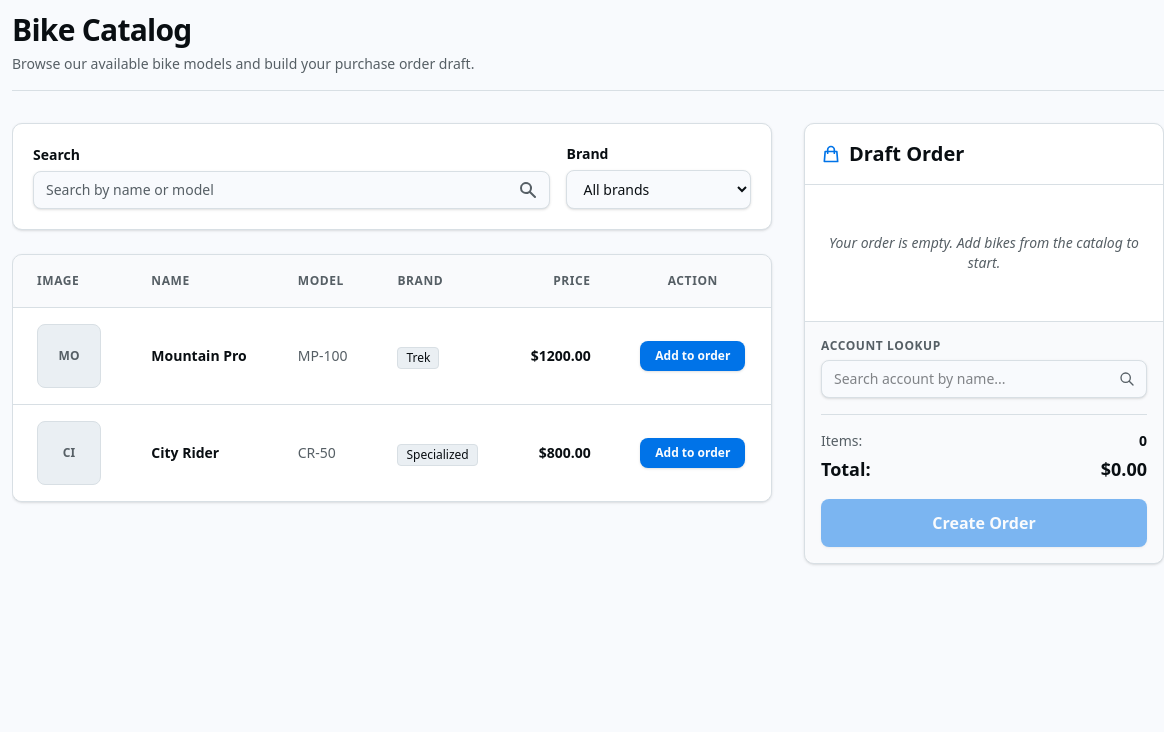
Scenario: CatalogPage › filters bikes by search text
This screenshot has width=1164, height=732.
Type "Mountain" into the field labelled "Search". click: (292, 190)
box: [33,170,550,208]
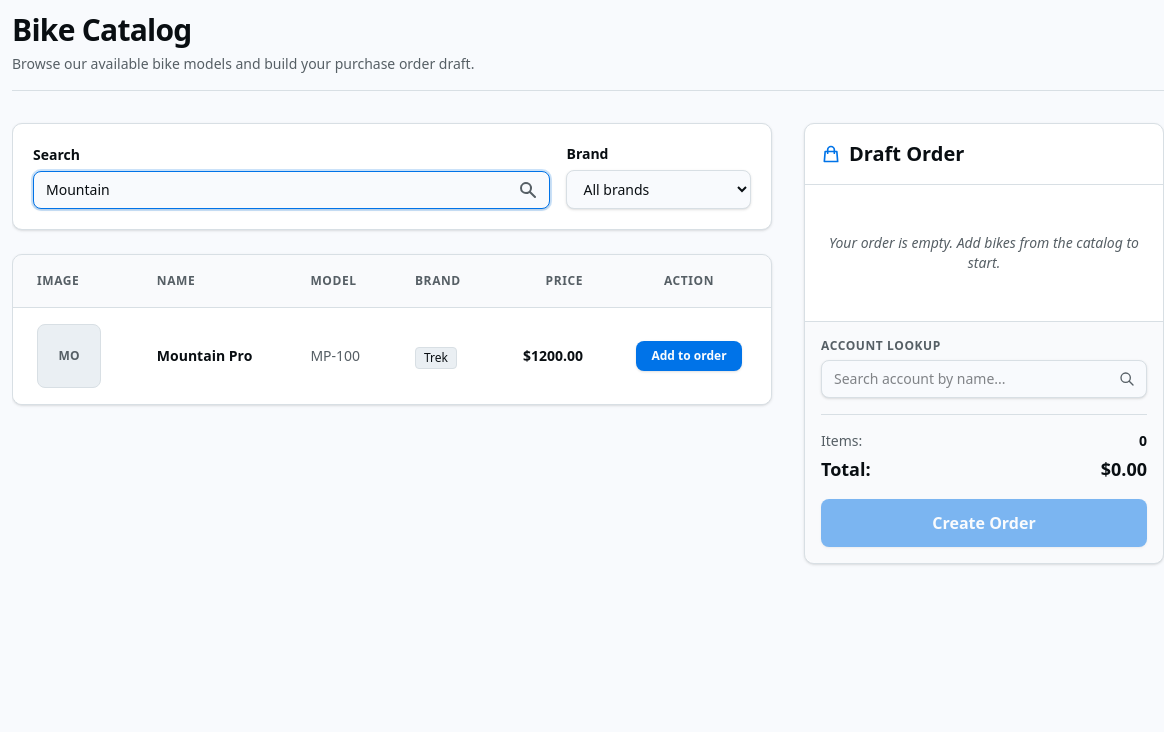
Check: the text "Mountain Pro" is shown, box [157,346,262,366]
Check: the text "City Rider" is gone
